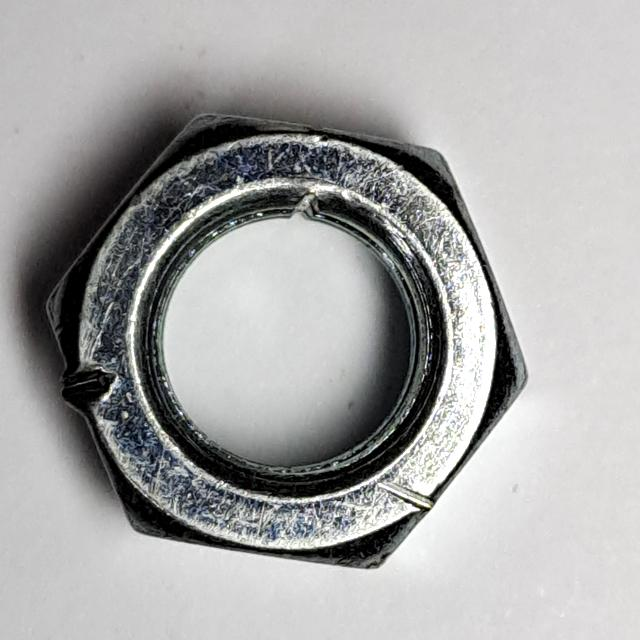Scratches: (34, 100, 541, 581)
